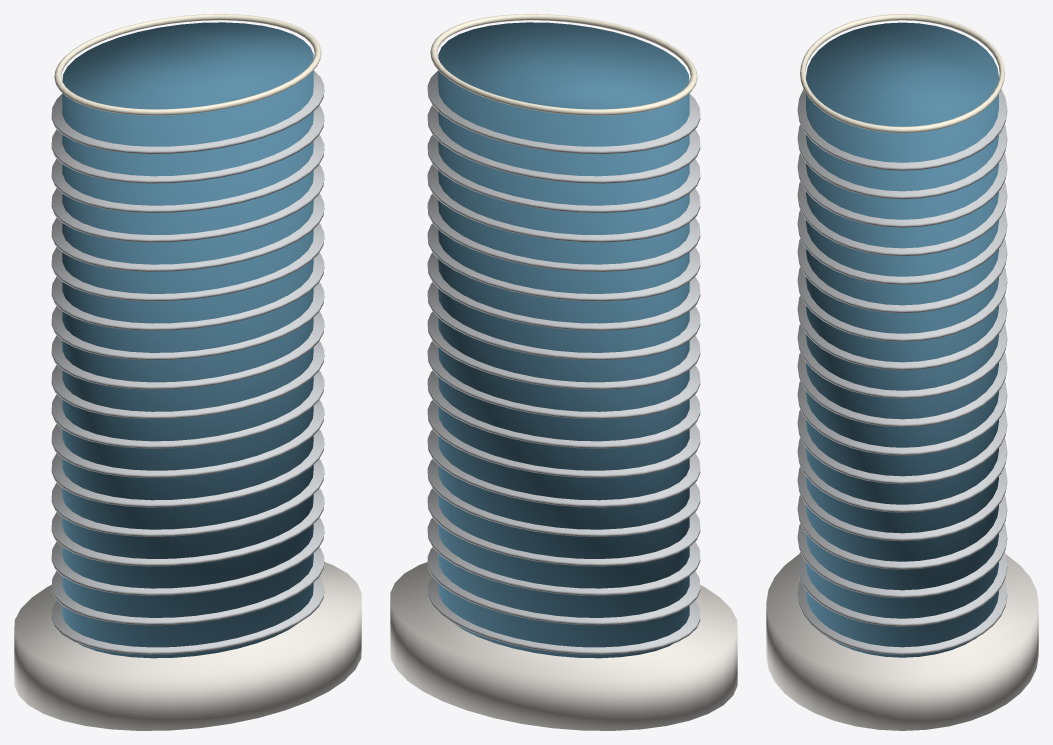
The model's file is Tower_TrumpCylinder.fbx.
The picture shows the model from 3 angles, left to right: view 1: azimuth 30°, elevation 25°; view 2: azimuth 150°, elevation 25°; view 3: azimuth 270°, elevation 25°; orthographic projection. The views are drawn at different scales.
Visible parts, largest first — view 1: Cylinder.001, Cylinder, Torus, Cylinder.019, Cylinder.012, Cylinder.003, Cylinder.002, Cylinder.011, Cylinder.013, Cylinder.014, Cylinder.016, Cylinder.005 (+9 smaller); view 2: Cylinder.001, Cylinder, Torus, Cylinder.019, Cylinder.012, Cylinder.003, Cylinder.002, Cylinder.011, Cylinder.013, Cylinder.014, Cylinder.016, Cylinder.005 (+9 smaller); view 3: Cylinder.001, Cylinder, Torus, Cylinder.019, Cylinder.016, Cylinder.018, Cylinder.010, Cylinder.014, Cylinder.003, Cylinder.005, Cylinder.012, Cylinder.007 (+9 smaller).
Part boxes in pixels (bbox=[...]): Cylinder.001: bbox=[62, 22, 313, 658]; Cylinder: bbox=[14, 562, 361, 730]; Torus: bbox=[54, 14, 321, 115]; Cylinder.019: bbox=[51, 70, 324, 154]; Cylinder.012: bbox=[51, 282, 324, 360]; Cylinder.003: bbox=[51, 547, 324, 625]; Cylinder.002: bbox=[51, 577, 324, 654]; Cylinder.011: bbox=[51, 312, 324, 389]; Cylinder.013: bbox=[51, 253, 324, 330]; Cylinder.014: bbox=[51, 223, 324, 301]; Cylinder.016: bbox=[51, 164, 324, 242]; Cylinder.005: bbox=[51, 488, 324, 566]; Cylinder.001: bbox=[438, 22, 689, 658]; Cylinder: bbox=[390, 562, 737, 730]; Torus: bbox=[430, 14, 697, 115]; Cylinder.019: bbox=[427, 70, 700, 154]; Cylinder.012: bbox=[427, 282, 700, 360]; Cylinder.003: bbox=[427, 547, 700, 625]; Cylinder.002: bbox=[427, 577, 700, 654]; Cylinder.011: bbox=[427, 312, 700, 389]; Cylinder.013: bbox=[427, 253, 700, 330]; Cylinder.014: bbox=[427, 223, 700, 301]; Cylinder.016: bbox=[427, 164, 700, 242]; Cylinder.005: bbox=[427, 488, 700, 566]; Cylinder.001: bbox=[806, 22, 998, 657]; Cylinder: bbox=[766, 554, 1038, 730]; Torus: bbox=[800, 14, 1004, 133]; Cylinder.019: bbox=[797, 89, 1007, 170]; Cylinder.016: bbox=[797, 181, 1007, 256]; Cylinder.018: bbox=[797, 124, 1007, 199]; Cylinder.010: bbox=[797, 352, 1007, 427]; Cylinder.014: bbox=[797, 238, 1007, 313]; Cylinder.003: bbox=[797, 552, 1007, 626]; Cylinder.005: bbox=[797, 495, 1007, 569]; Cylinder.012: bbox=[797, 295, 1007, 370]; Cylinder.007: bbox=[797, 438, 1007, 512].
Bounding box in the file's own units: 36.8 × 66.72 × 28.16.
